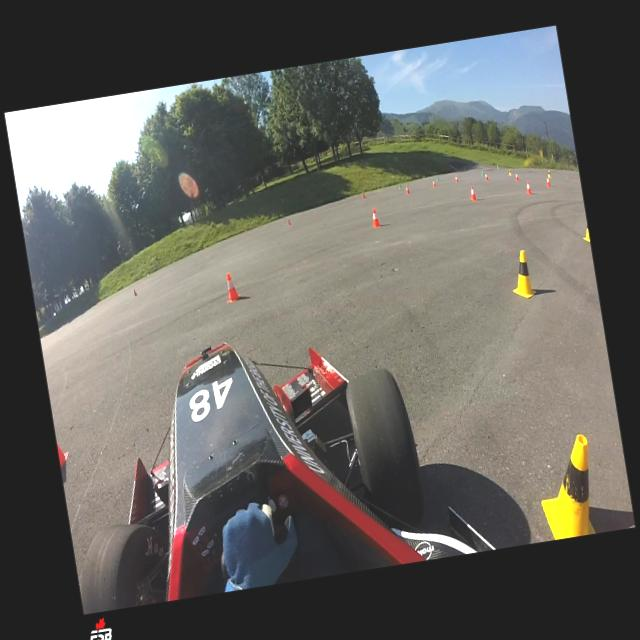orange_cone: (223, 272, 242, 304), (370, 207, 381, 228), (469, 185, 477, 201), (525, 180, 532, 196), (545, 176, 551, 187), (515, 172, 519, 182), (432, 180, 437, 188), (406, 184, 410, 194), (484, 172, 488, 180), (454, 175, 458, 183)
unknown_cone: (398, 182, 402, 190), (480, 170, 484, 177), (134, 289, 138, 296), (362, 192, 366, 198), (436, 174, 439, 182), (288, 220, 291, 226)
yellow_cone: (532, 434, 602, 542), (507, 249, 538, 301), (580, 216, 590, 243), (546, 170, 552, 178), (508, 168, 512, 176)
